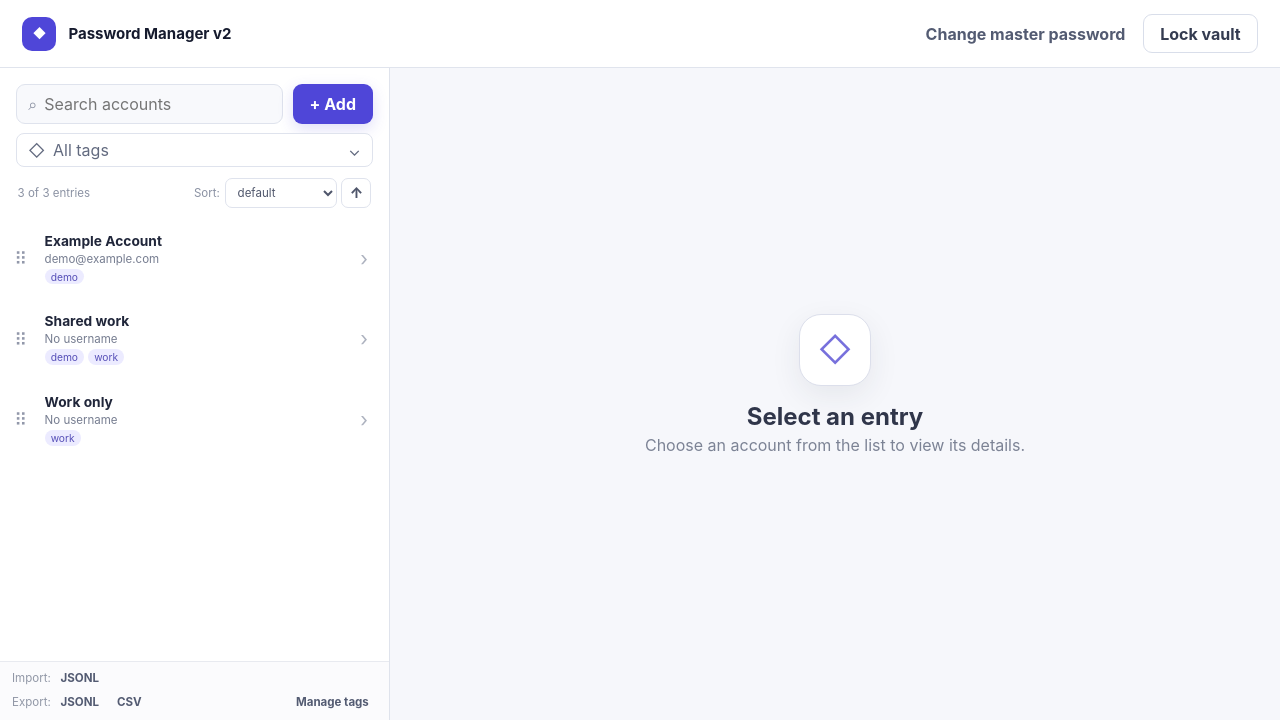
Scenario: App › filters accounts by all selected tags in a floating menu and disables reordering
This screenshot has width=1280, height=720.
Step 1. Click the button "Example Account demo@example.com demo ›" → (103, 241), box 33,220 -> 379,297
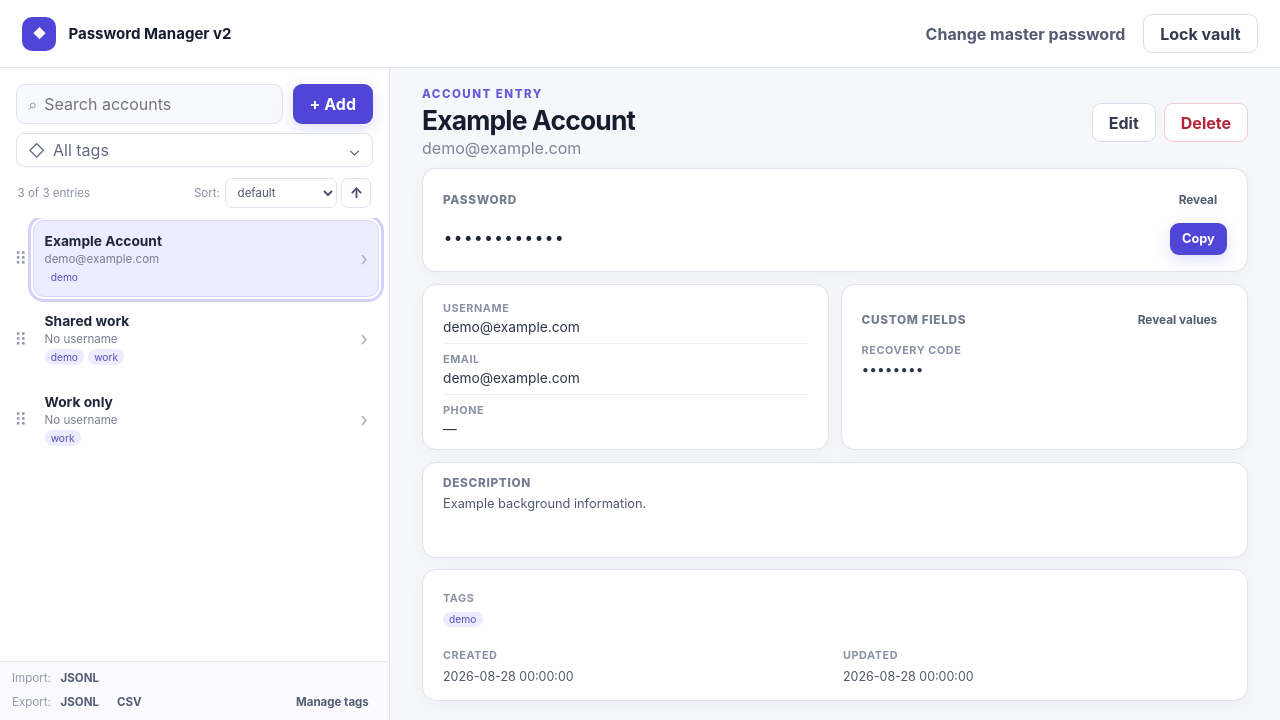
Step 2. Click the button with aria-label "Filter accounts by tags" → (81, 150), box 16,133 -> 373,167
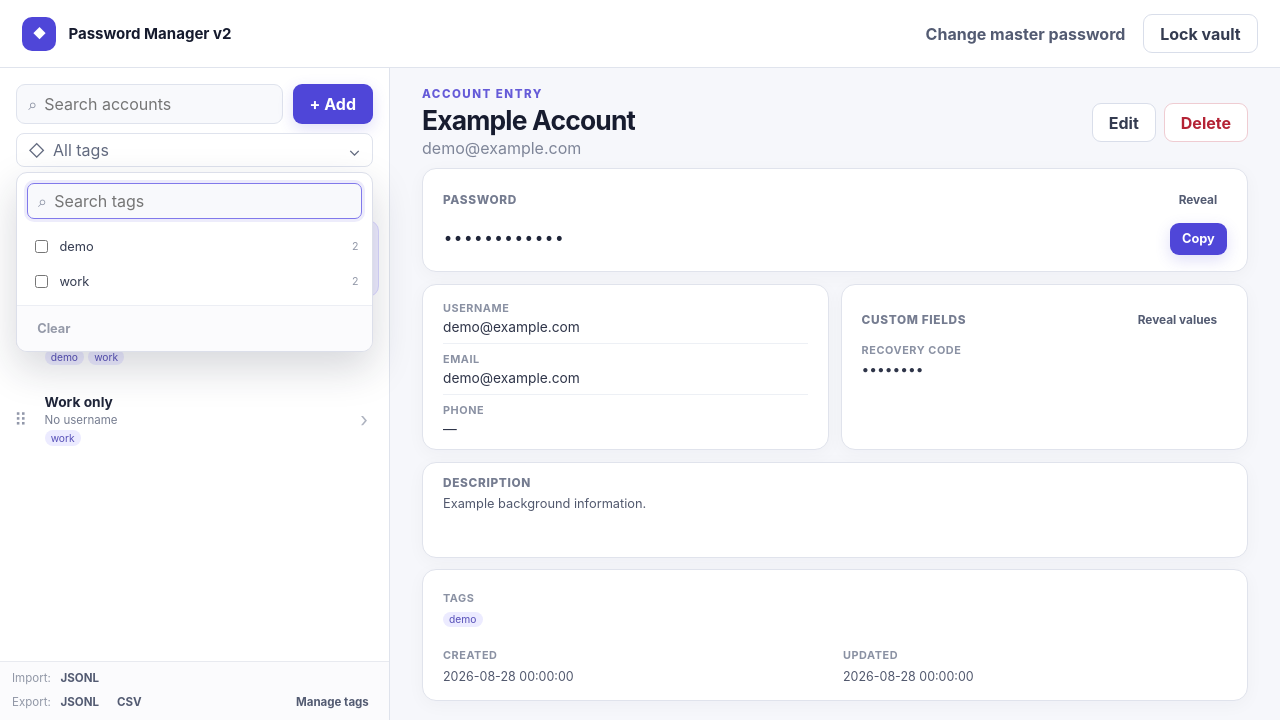
Step 3. Click the checkbox labelled "demo 2" → (41, 247), box 35,240 -> 48,253
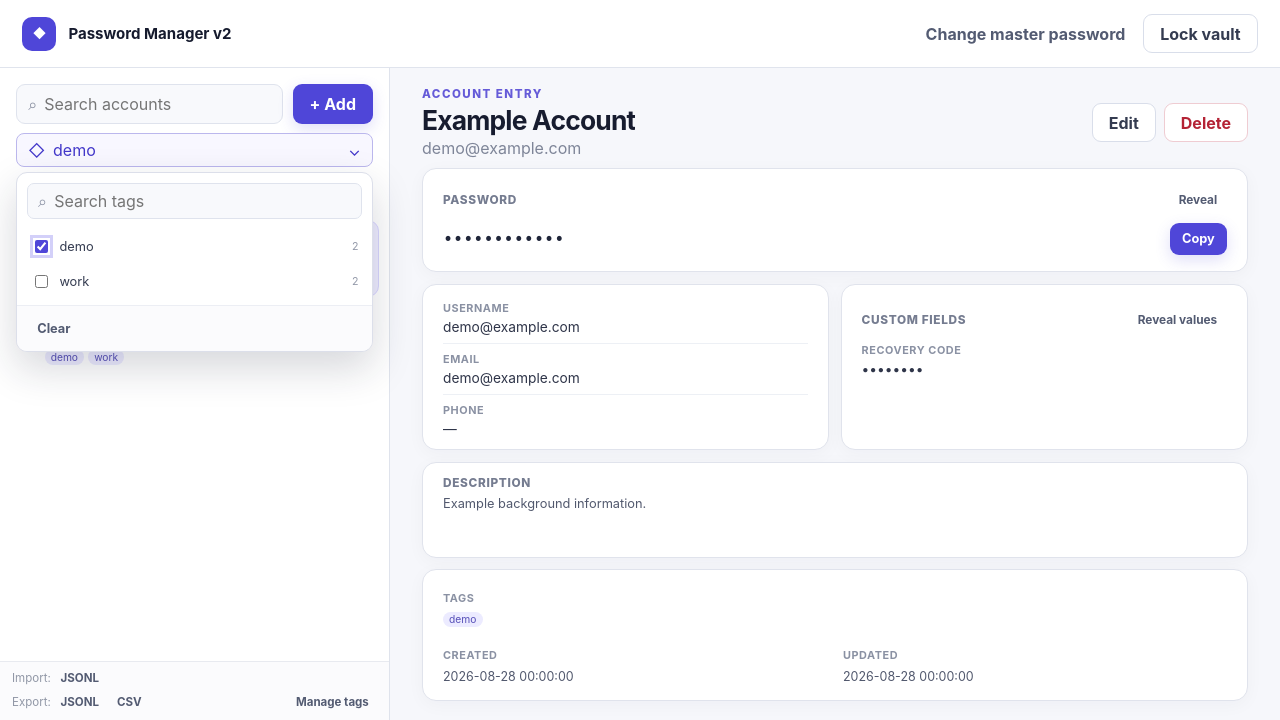
Step 4. Click the checkbox labelled "work 2" → (41, 282), box 35,275 -> 48,288
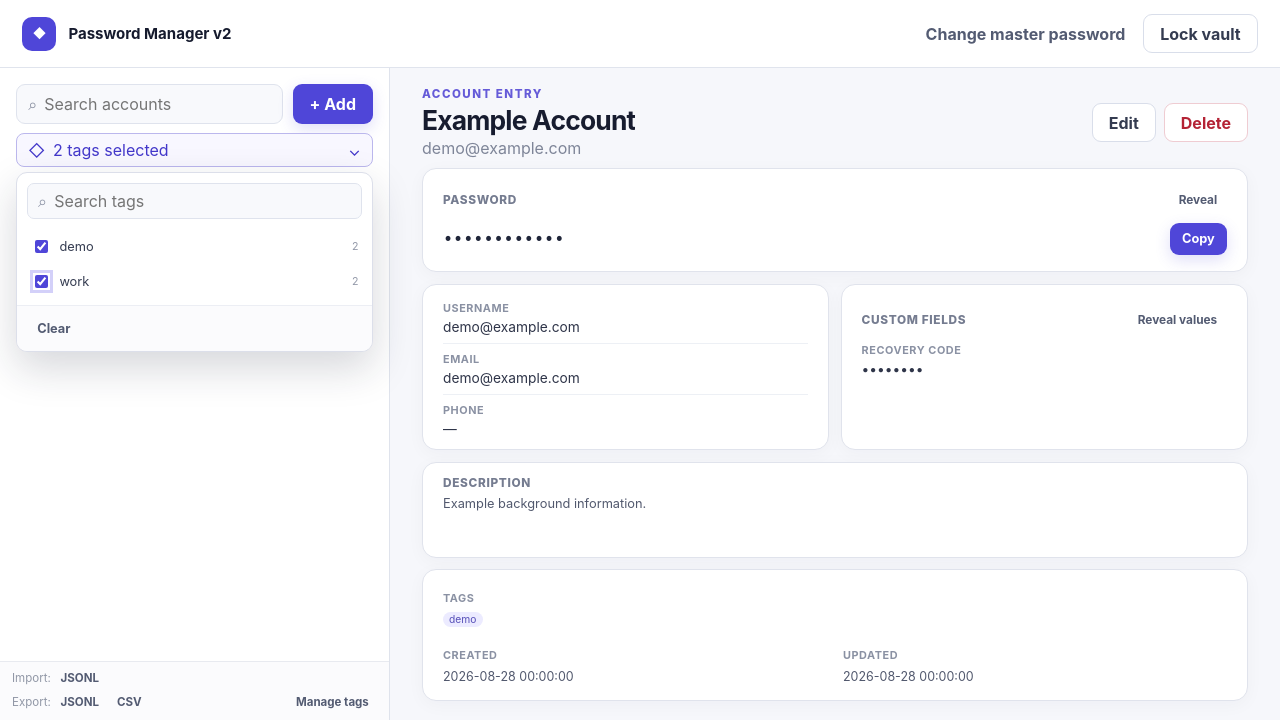
Expected: the heading "Example Account" is shown, 422,104 -> 635,136
Result: the button named "Reorder Shared work" is disabled at 10,242 -> 32,276
Result: the button with aria-label "Filter accounts by tags" shows "2 tags selected" at 16,133 -> 373,167
